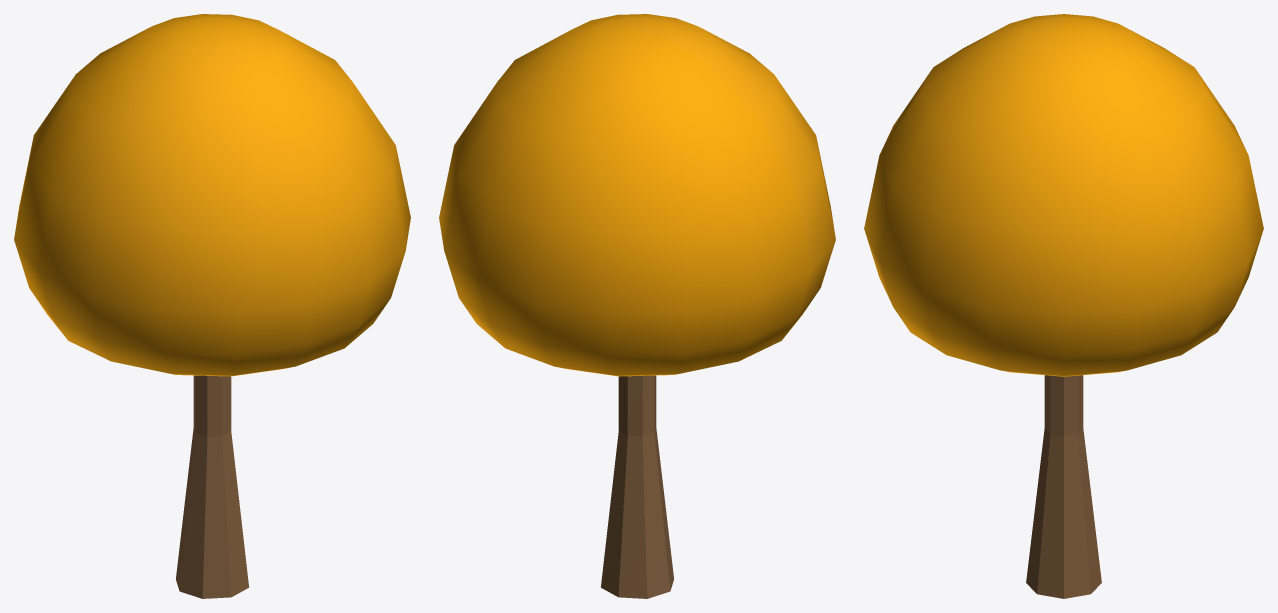
File: tree_1_yellow.fbx
3 renders of one model, left to right at view 1: azimuth 30°, elevation 25°; view 2: azimuth 150°, elevation 25°; view 3: azimuth 270°, elevation 25°, orthographic.
Visible parts, largest first — view 1: tree_1_yellow; view 2: tree_1_yellow; view 3: tree_1_yellow.
Boxes of the visible parts, x1,y1,x2,y2 form: tree_1_yellow: (14, 14, 410, 598); tree_1_yellow: (439, 14, 835, 598); tree_1_yellow: (864, 14, 1263, 598).
Size of the model in its own units: 444 by 676 by 444.
